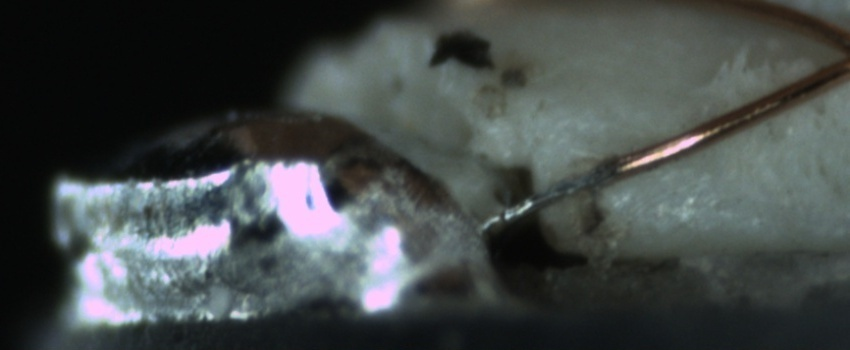TS: (489, 162, 618, 227)
TTCW: (491, 142, 655, 226)
